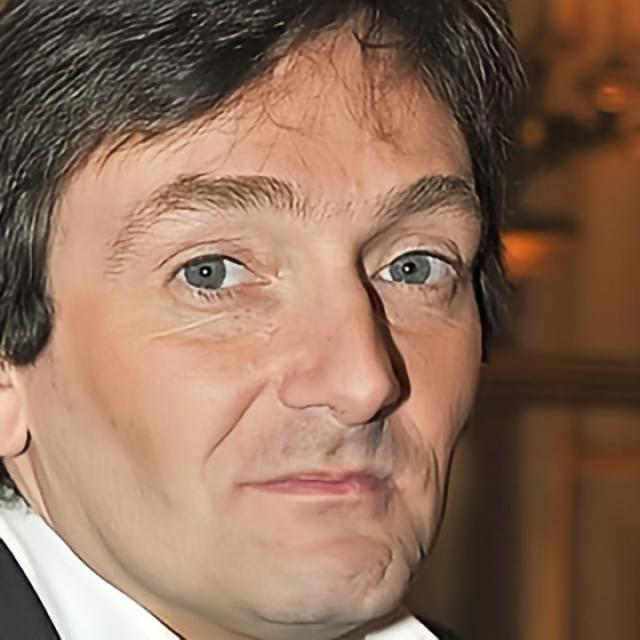surprise: (28, 2, 486, 640)
